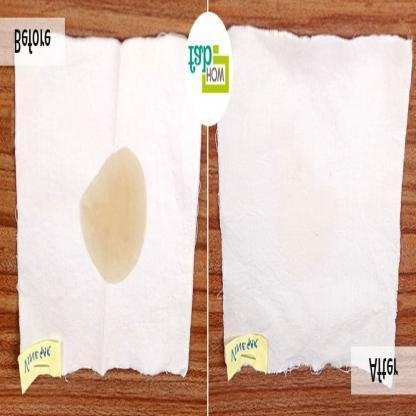coffee: (87, 174, 144, 273)
